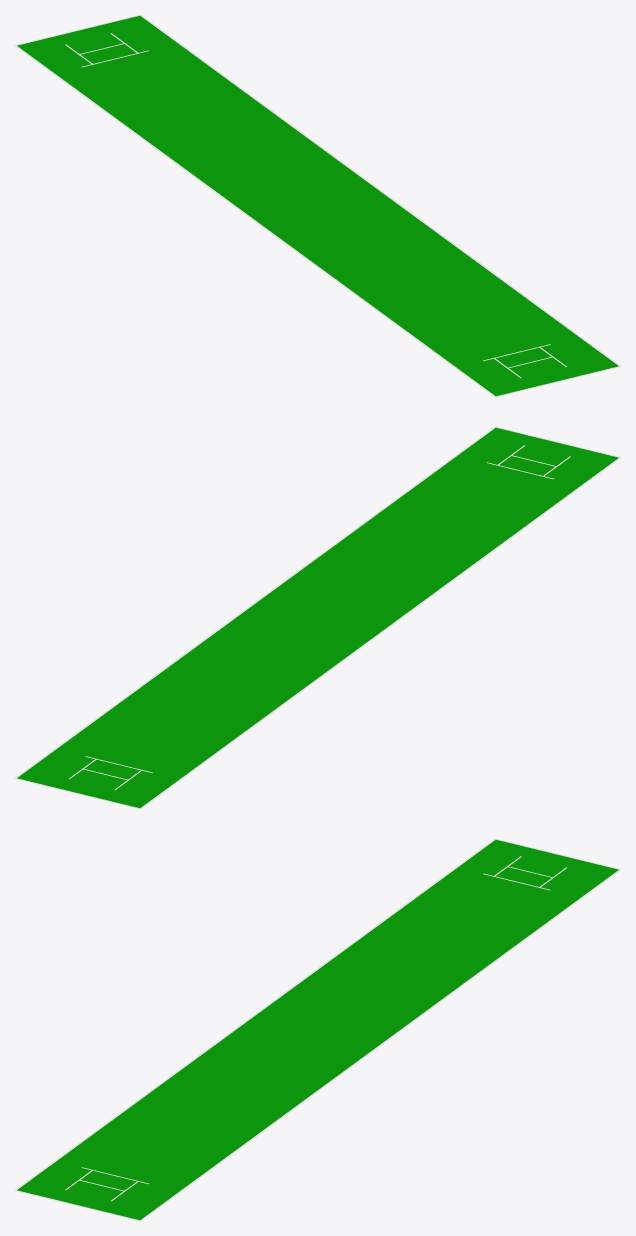
The model's file is CrickietCourt.fbx.
3 views of the same model, one above another, from view 1: azimuth 30°, elevation 25°; view 2: azimuth 150°, elevation 25°; view 3: azimuth 330°, elevation 25° (orthographic).
Visible parts, largest first — view 1: CrickietCourt; view 2: CrickietCourt; view 3: CrickietCourt.
Part boxes in pixels (x1,y1,x2,y2): CrickietCourt: [14, 14, 621, 397]; CrickietCourt: [14, 426, 621, 809]; CrickietCourt: [14, 838, 621, 1221].
Bounding box in the file's own units: 304 × 1.49 × 1996.
